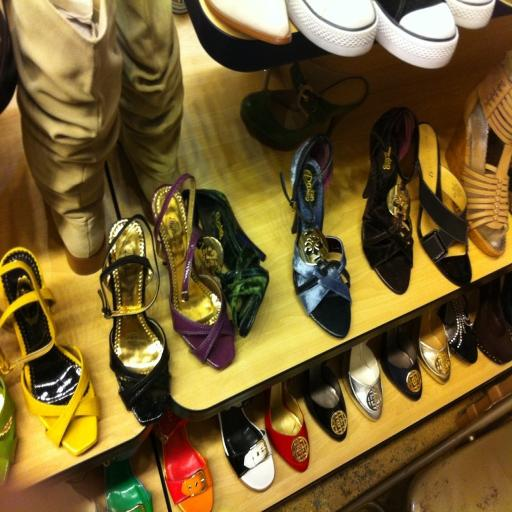boots: (8, 8, 121, 268)
heels: (0, 248, 100, 455), (152, 174, 235, 369), (99, 215, 170, 424), (281, 135, 351, 338), (445, 50, 512, 256), (183, 189, 269, 337), (240, 61, 368, 150), (361, 107, 419, 295), (417, 123, 471, 286), (156, 407, 214, 512), (218, 405, 275, 491), (265, 381, 309, 472), (304, 361, 348, 441), (473, 277, 512, 364), (343, 342, 383, 421), (380, 325, 422, 400), (437, 295, 477, 364), (104, 456, 153, 512), (419, 310, 451, 383), (0, 376, 18, 484)
